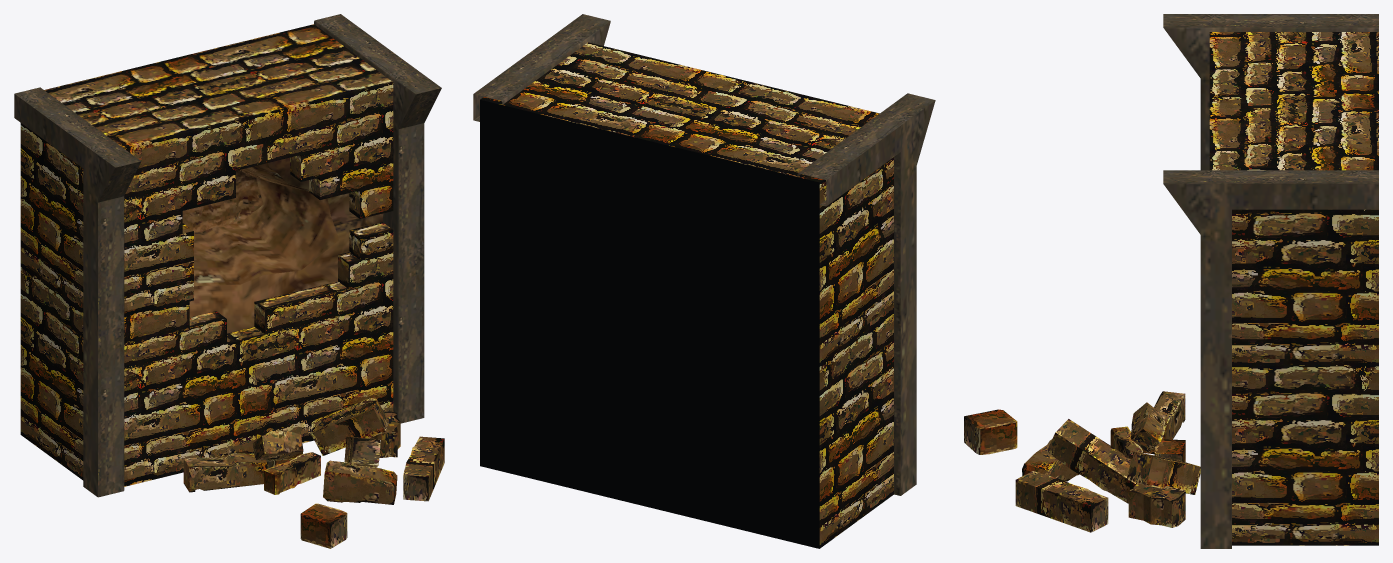
File: stoneWallJ.fbx
3 views of the same model, side by side, from view 1: azimuth 30°, elevation 25°; view 2: azimuth 150°, elevation 25°; view 3: azimuth 270°, elevation 25° (orthographic). The views are drawn at different scales.
Visible parts, largest first — view 1: stoneWallJ; view 2: stoneWallJ; view 3: stoneWallJ.
Part boxes in pixels (<box>): stoneWallJ: <box>14,14,444,548</box>; stoneWallJ: <box>473,14,935,548</box>; stoneWallJ: <box>964,14,1378,548</box>.
Size of the model in its own units: 300 by 301 by 310.
